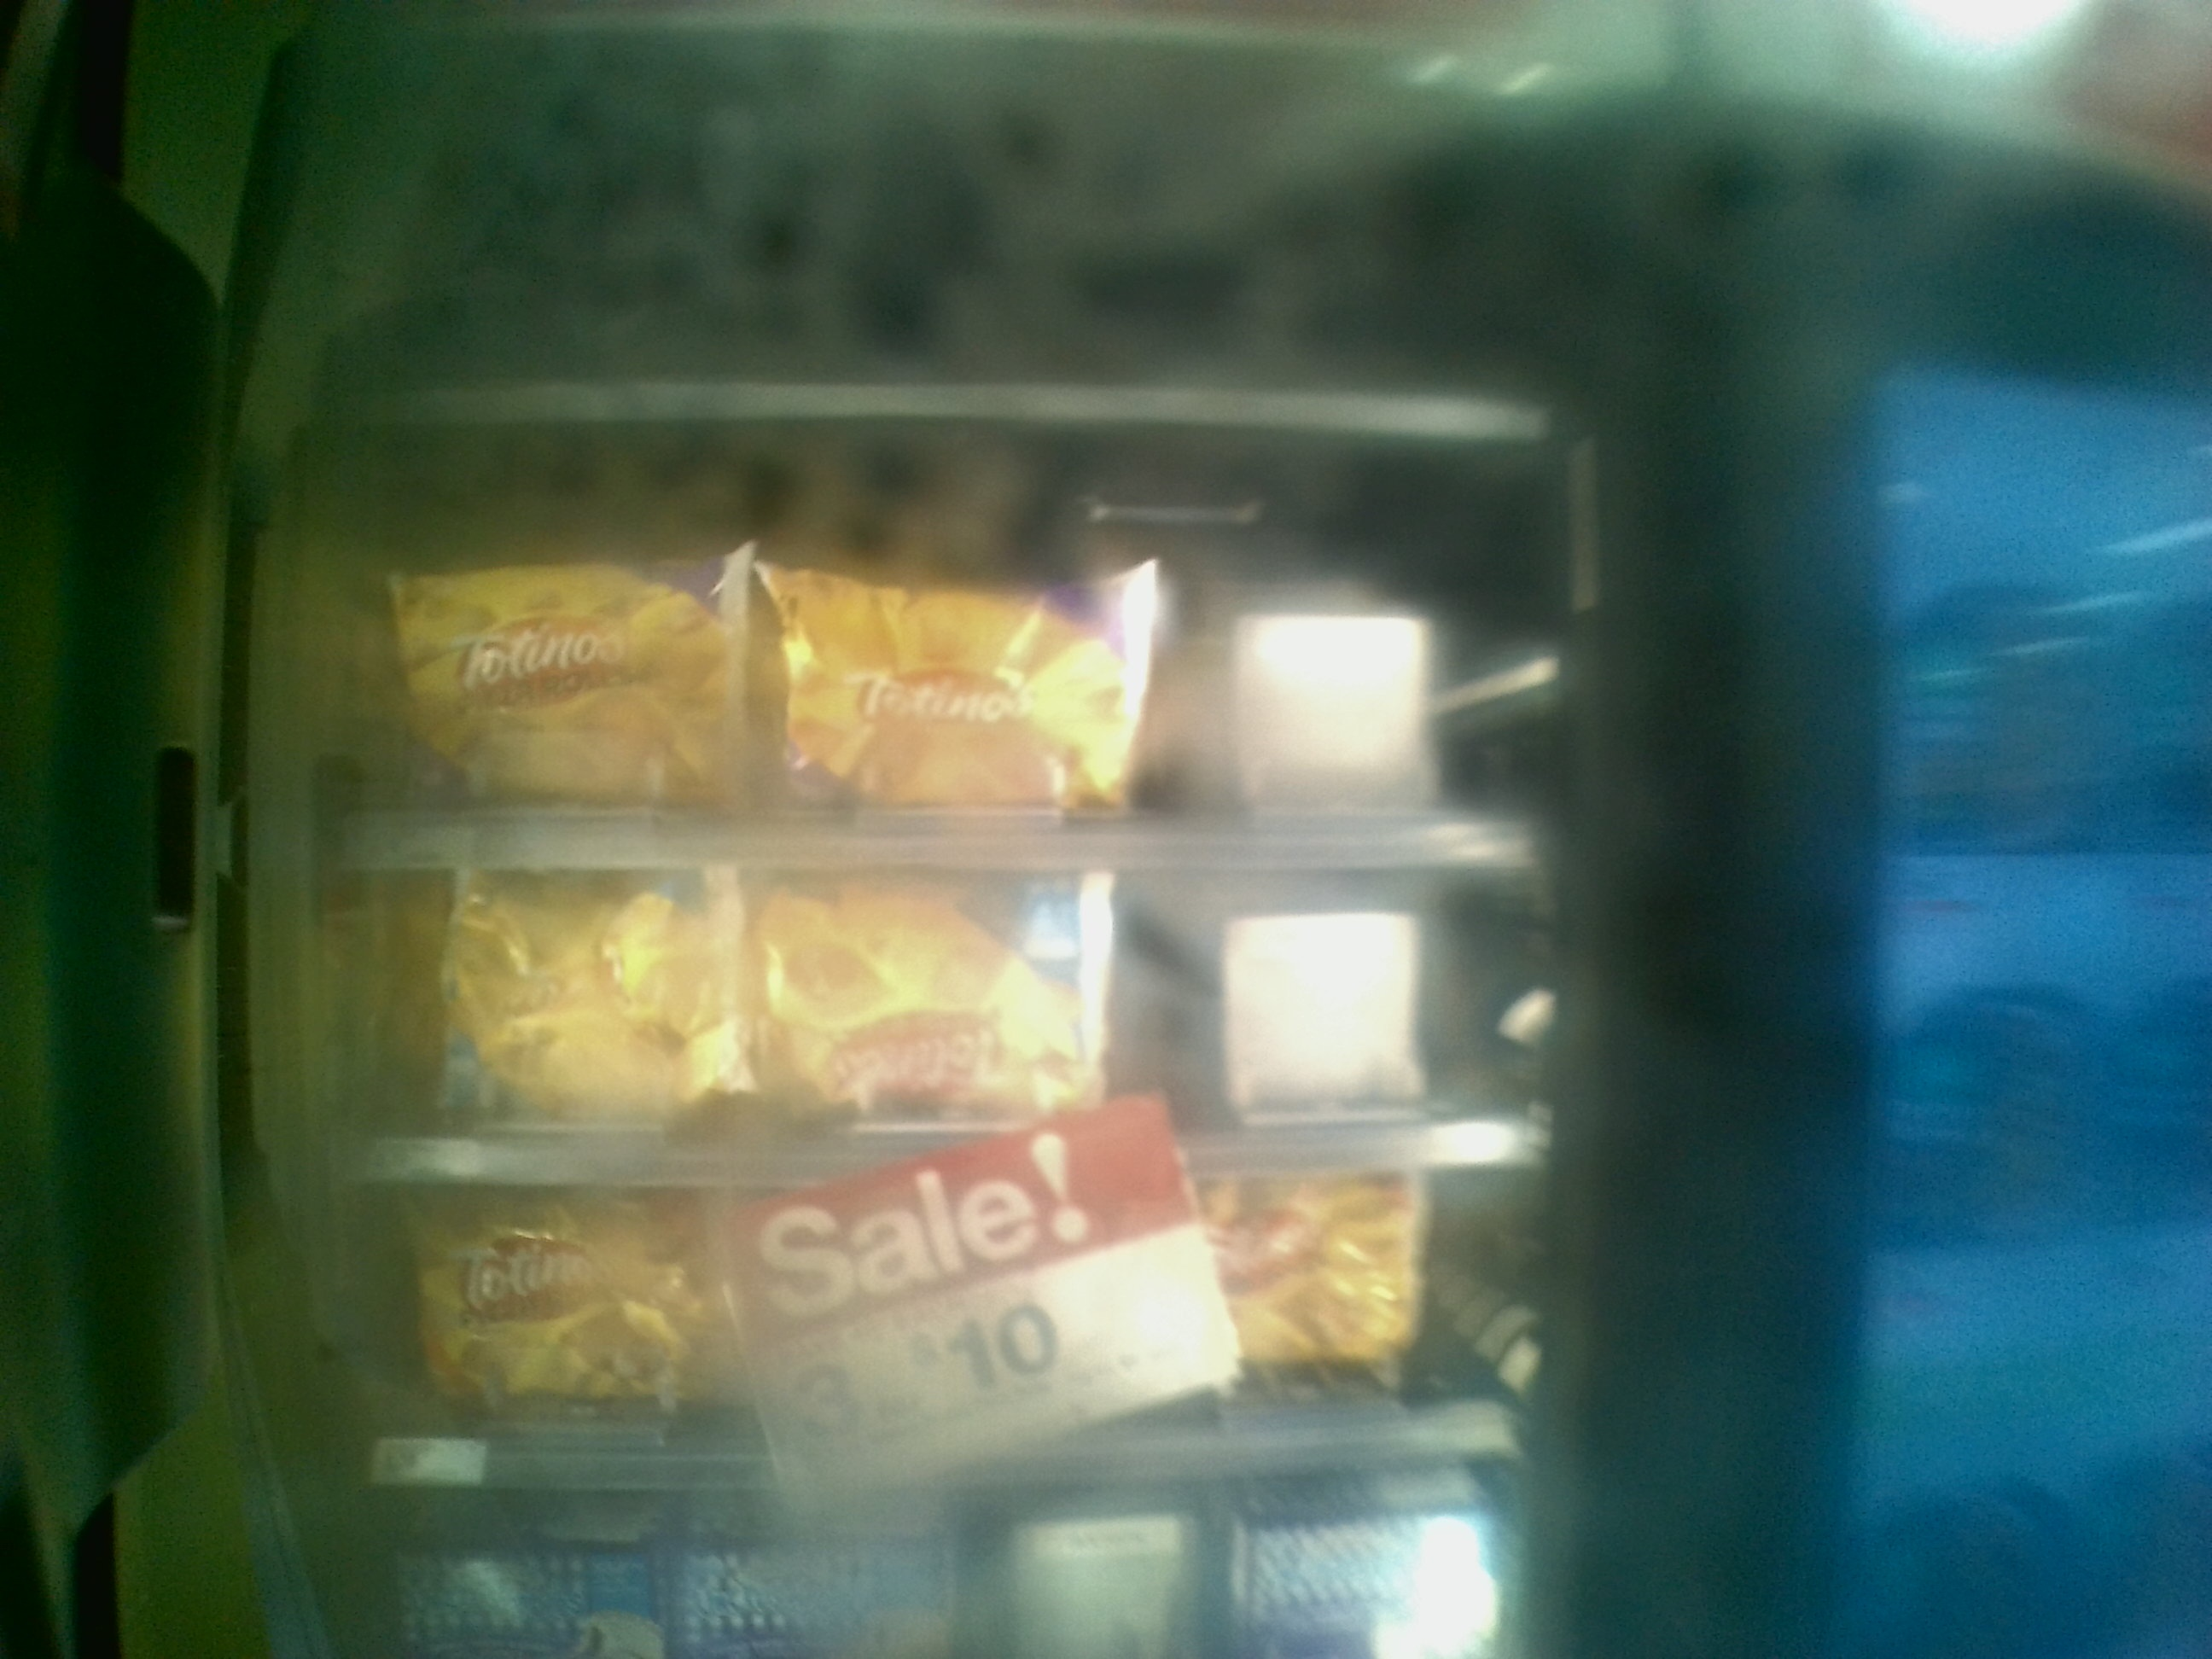shelf: (354, 486, 1545, 873), (340, 861, 1550, 1182), (329, 1166, 1527, 1466)
